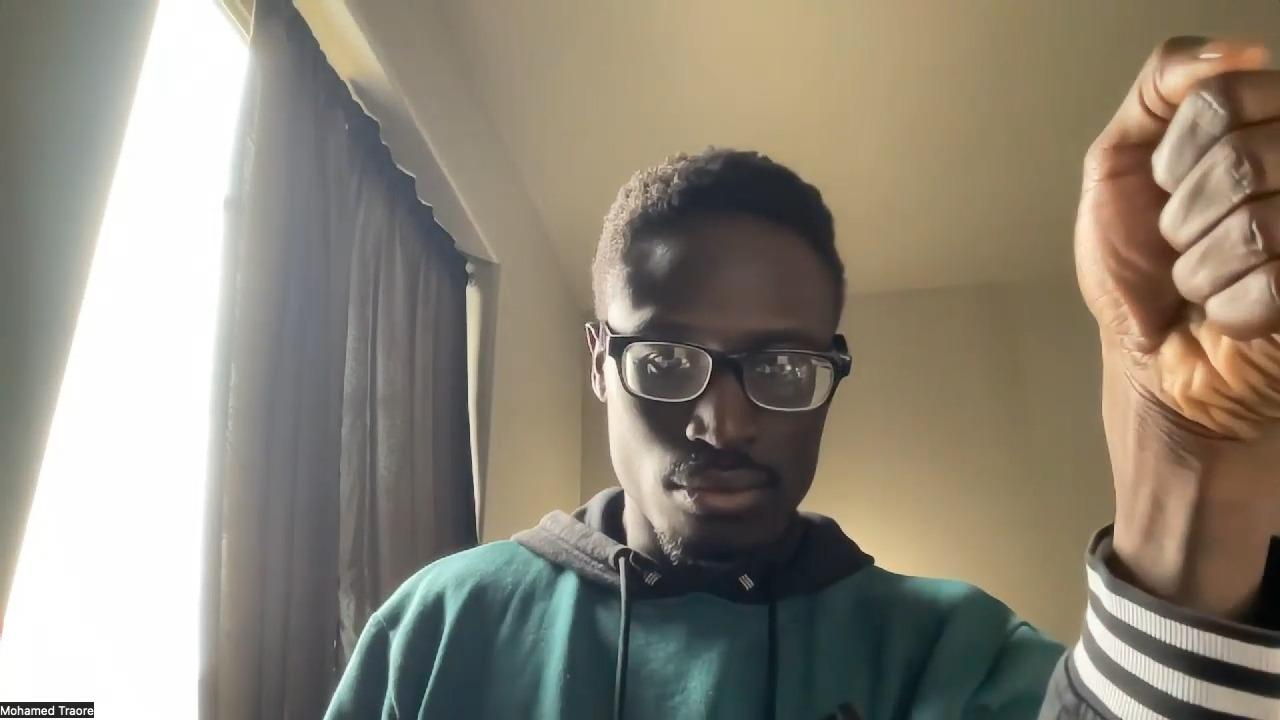Rock: (1073, 30, 1280, 442)
